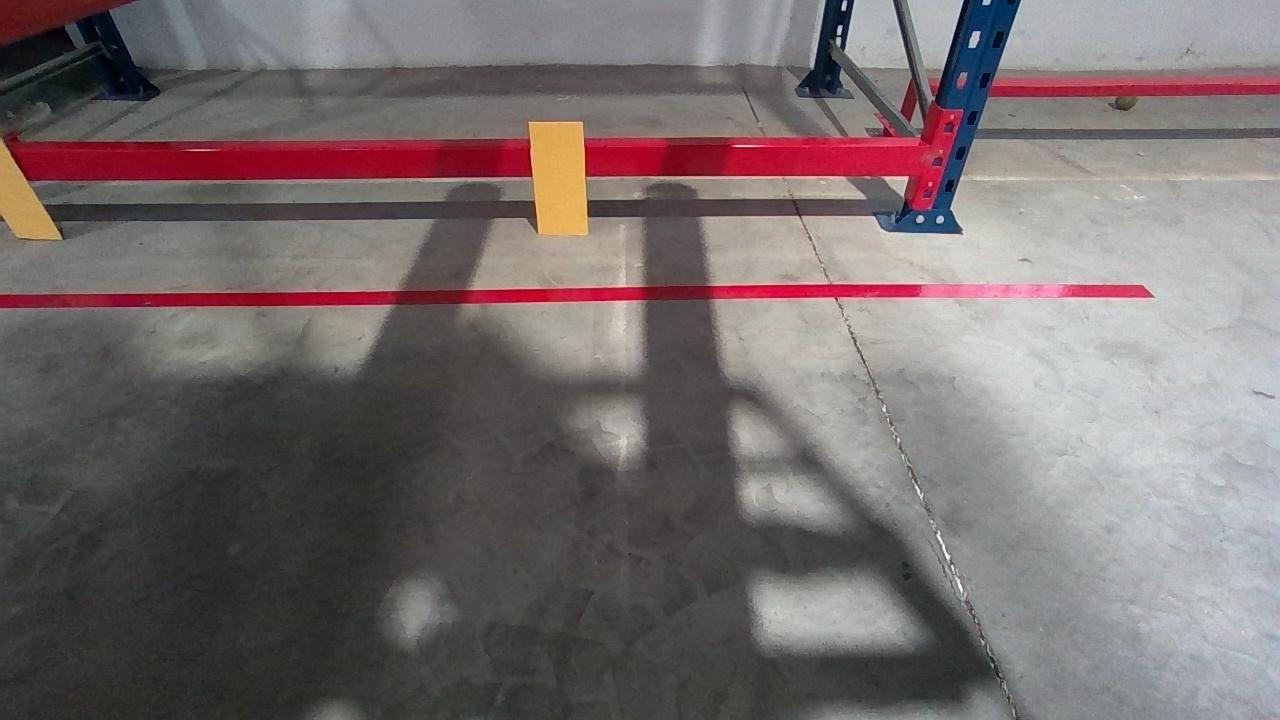h_rack: (0, 144, 928, 179)
orange_strip: (0, 135, 62, 240), (528, 120, 586, 232)
red_line: (0, 279, 1150, 307)
